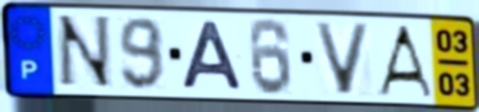6: (246, 16, 294, 98)
9: (117, 15, 168, 93)
A: (177, 19, 247, 93), (373, 23, 436, 100)
N: (54, 13, 116, 91)
V: (311, 20, 374, 97)
